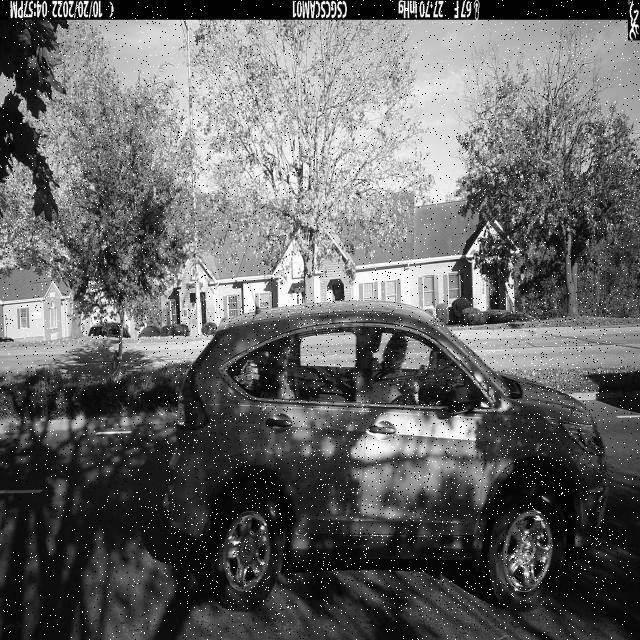SUV: (165, 297, 608, 612)
